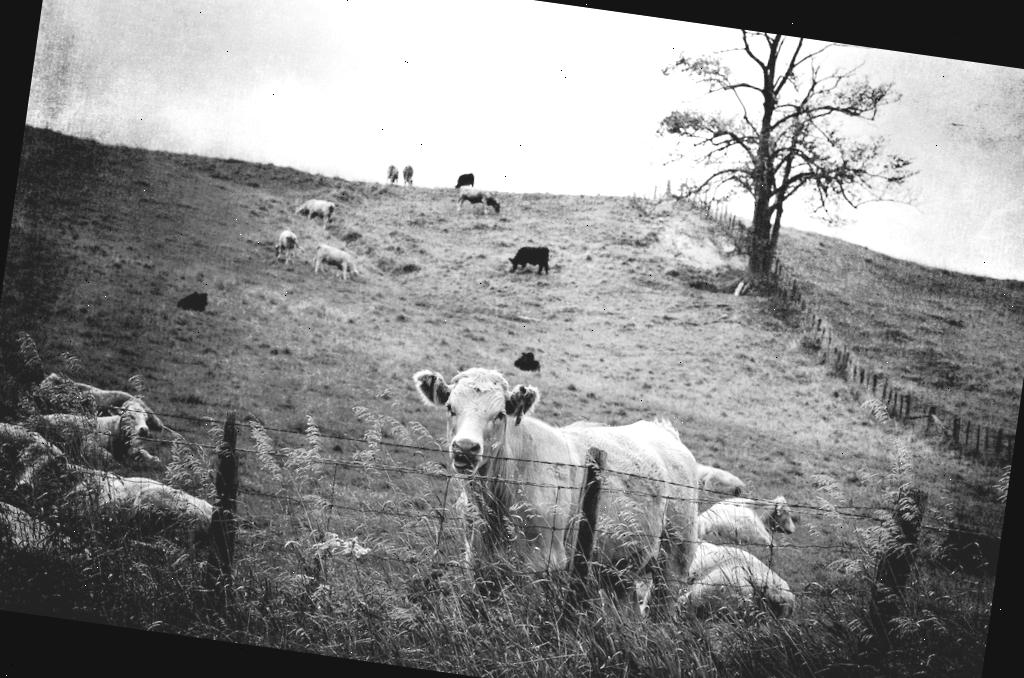Sheep: (383, 356, 715, 638), (32, 386, 171, 469), (681, 541, 797, 617), (83, 464, 215, 524), (696, 487, 799, 550), (310, 242, 358, 278), (454, 188, 499, 217), (510, 244, 552, 274), (295, 194, 334, 221), (274, 232, 302, 264), (452, 168, 478, 191)
